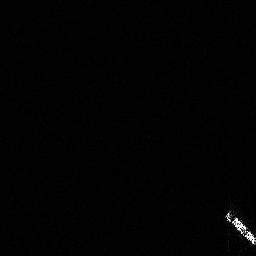ship: (223, 209, 256, 247)
